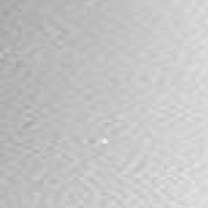Target: (101, 138, 109, 144)
